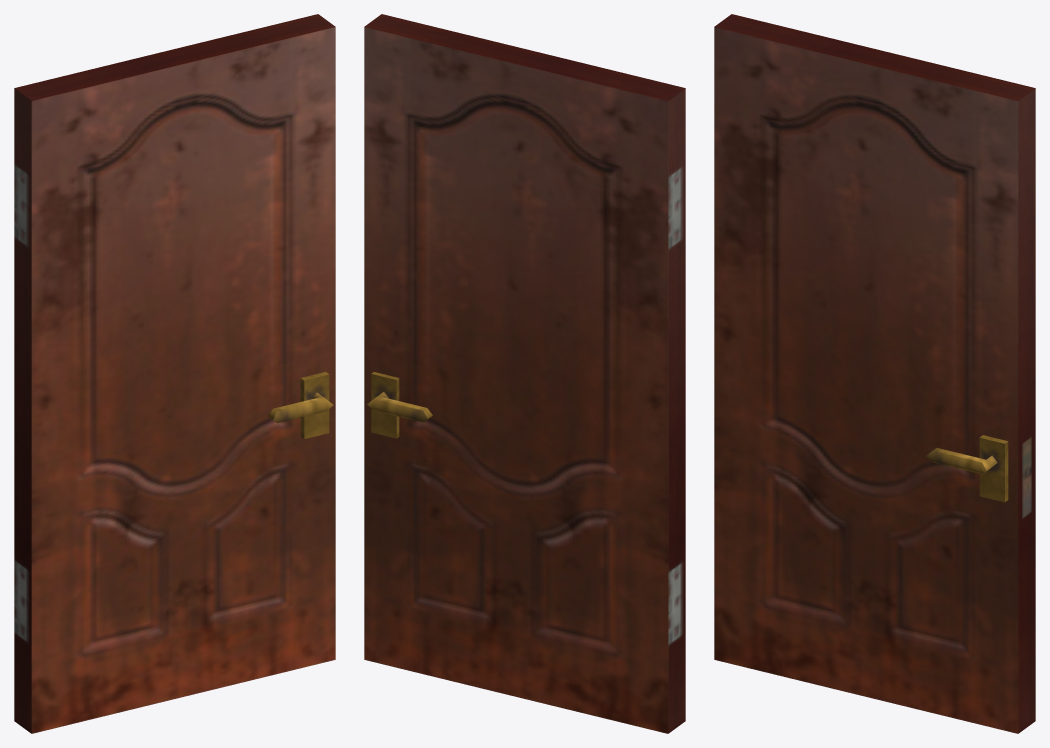
File: door_001.obj
3 renders of one model, left to right at view 1: azimuth 30°, elevation 25°; view 2: azimuth 150°, elevation 25°; view 3: azimuth 330°, elevation 25°, orthographic.
Parts seen in each view (by area): view 1: Door06, DoorHandle_Handle; view 2: Door06, DoorHandle_Handle.001; view 3: Door06, DoorHandle_Handle.
Part boxes in pixels (x1,y1,x2,y2): Door06: [14, 14, 335, 733]; DoorHandle_Handle: [268, 372, 333, 439]; Door06: [364, 14, 685, 733]; DoorHandle_Handle.001: [367, 372, 432, 438]; Door06: [714, 14, 1035, 733]; DoorHandle_Handle: [926, 435, 1008, 502].
Size of the model in its own units: 1 by 1.99 by 0.265.
2 materials, 2 textured.
